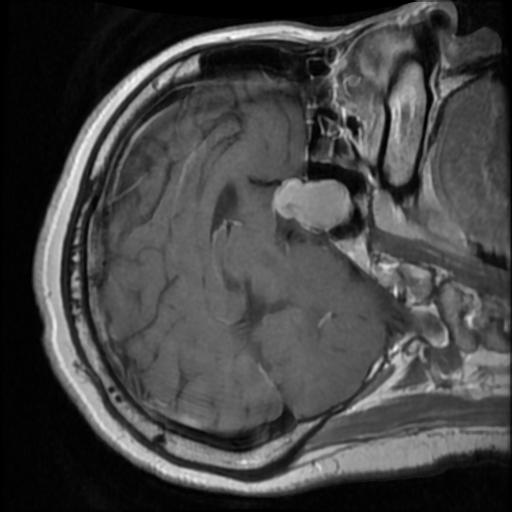pituitary tumour: (276, 178, 348, 230)
